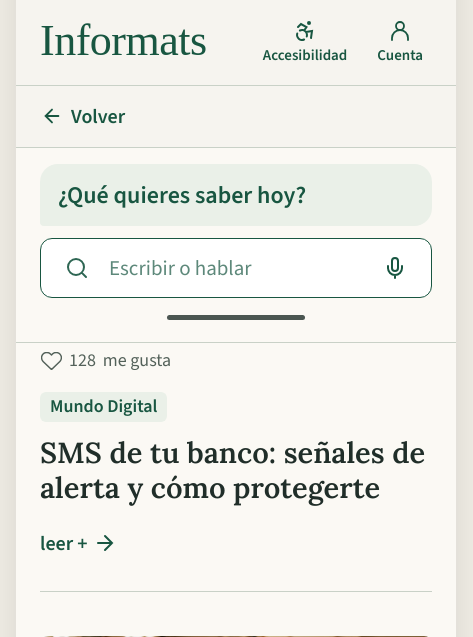
Informats - Pantalla «Inicio · Hoy, con claridad» › allows liking a news item and updates the count immediately
(page scrolled)
Expected: the text "128" is shown, [69,348,96,373]
Pulsar like
What coordinates should you click on to do the following:
click the button "128 me gusta"
I would click on:
 (137, 360)
Its box is [34,343,432,378].
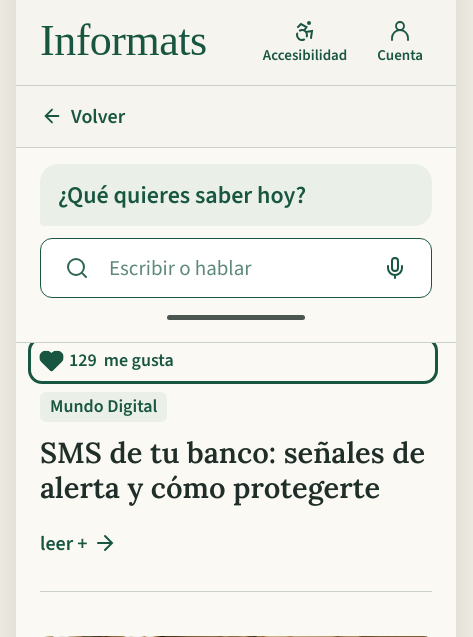
Now the text "129" is shown, box [69,348,97,373]
Pulsar de nuevo para desmarcar
What coordinates should you click on to do the following:
click the button "129 me gusta"
I would click on:
 (139, 360)
Its box is [34,343,432,378].
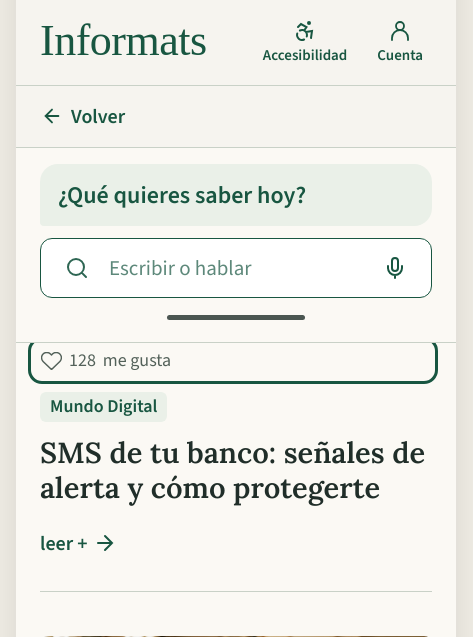
Now the text "128" is shown, box [69,348,96,373]
